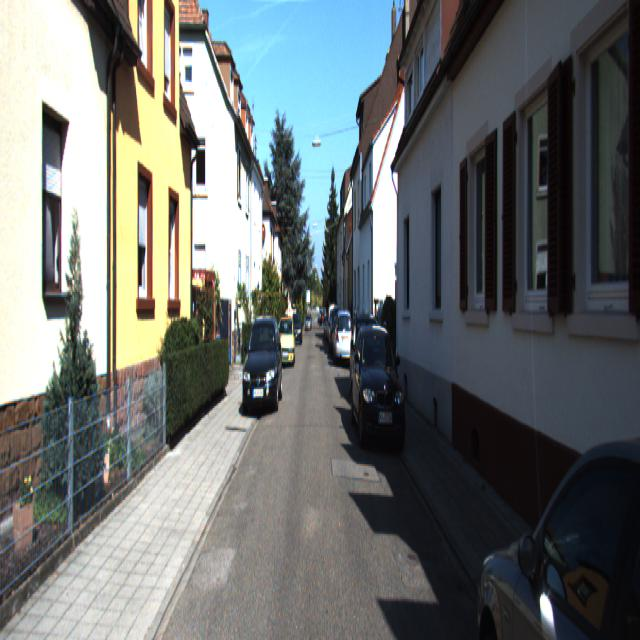Car: (474, 364, 640, 638), (350, 319, 406, 459), (242, 310, 282, 420), (333, 307, 354, 369), (276, 313, 294, 368)
